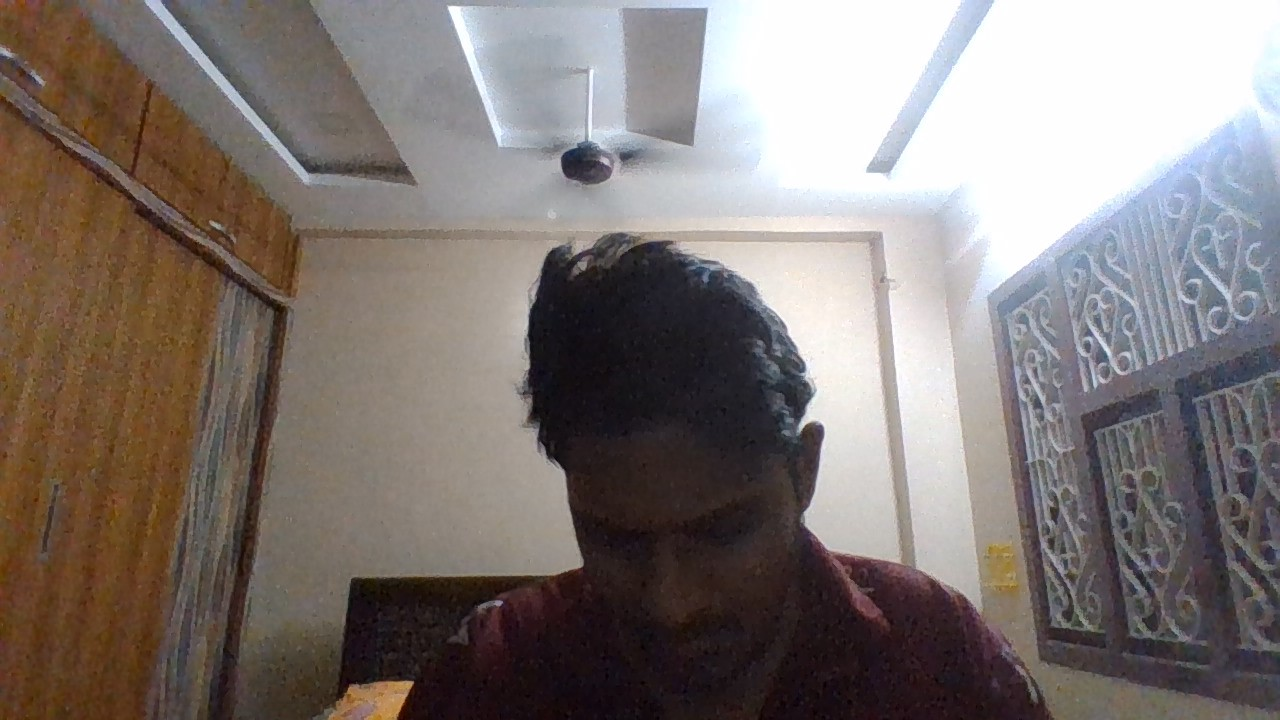person: (461, 98, 982, 720)
